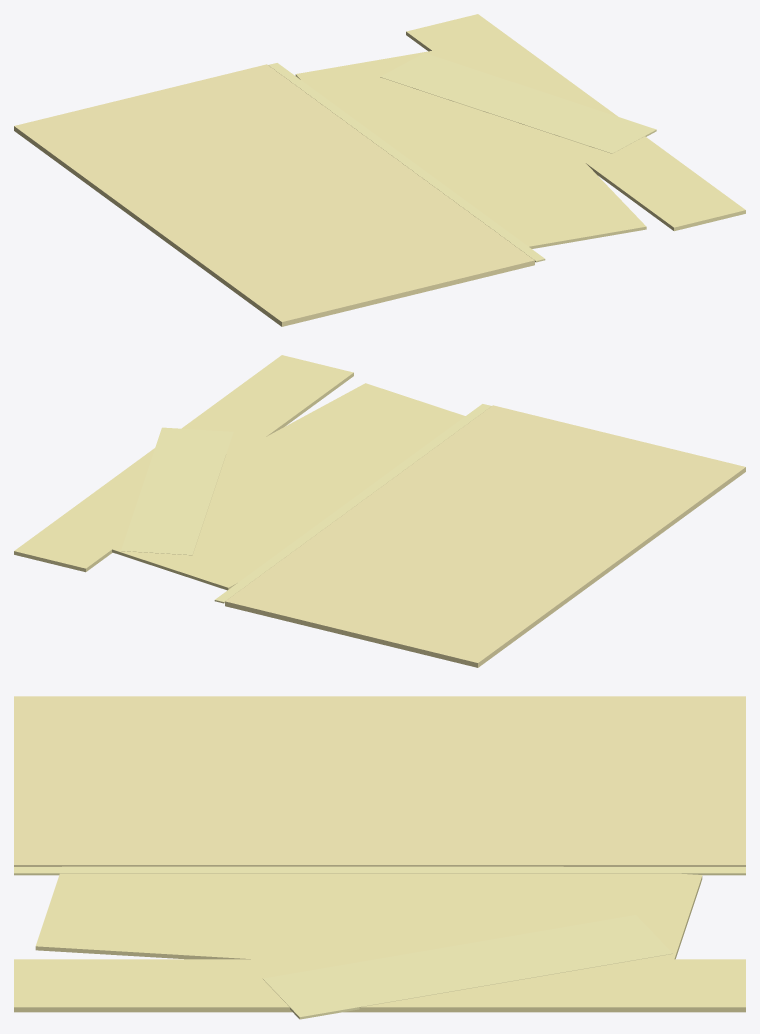
Rendered from road_lane_drop_transition.glb.
3 renders of one model, top to bottom at view 1: azimuth 30°, elevation 25°; view 2: azimuth 150°, elevation 25°; view 3: azimuth 270°, elevation 25°, orthographic. The views are drawn at different scales.
Parts seen in each view (by area): view 1: travel_lane_main, taper_zone, outer_shoulder, gore_fill, lane_edge_break; view 2: travel_lane_main, taper_zone, outer_shoulder, gore_fill, lane_edge_break; view 3: travel_lane_main, taper_zone, outer_shoulder, gore_fill, lane_edge_break.
Part boxes in pixels (x1,y1,x2,y2): travel_lane_main: (14,64,534,326); taper_zone: (295,44,646,248); outer_shoulder: (406,14,745,231); gore_fill: (380,53,656,153); lane_edge_break: (268,63,545,262); travel_lane_main: (225,405,745,667); taper_zone: (79,383,465,590); outer_shoulder: (14,355,353,572); gore_fill: (121,427,233,555); lane_edge_break: (214,404,491,603); travel_lane_main: (14,696,745,866); taper_zone: (35,866,702,982); outer_shoulder: (14,959,745,1012); gore_fill: (263,915,672,1019); lane_edge_break: (14,867,745,875).
Bounding box in the file's own units: 4.13 × 0.04 × 4.
